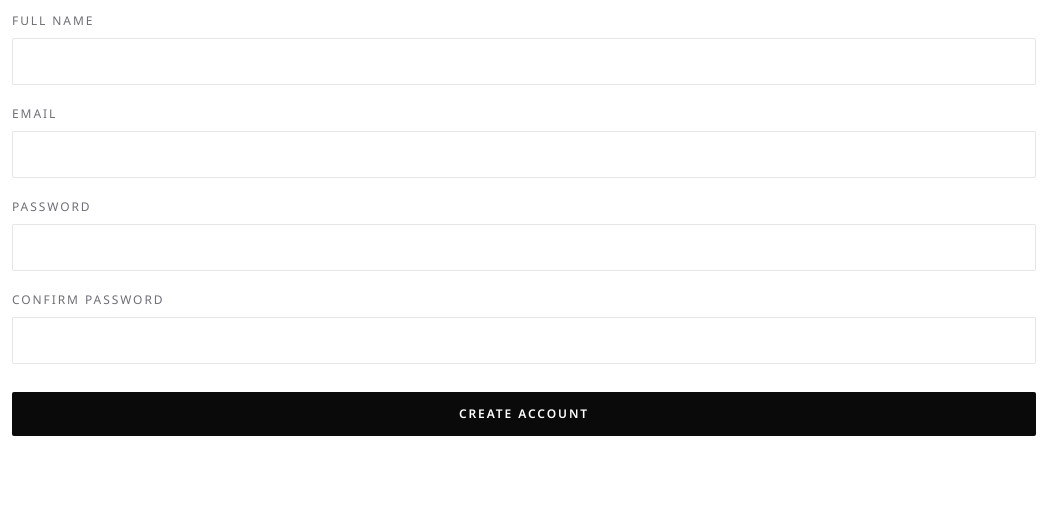
Test: SignupForm › shows the server error on failure
Type "A B" into the field labelled "Full name".
click(524, 62); type("A B")  # box top-left (12, 38), bottom-right (1036, 85)
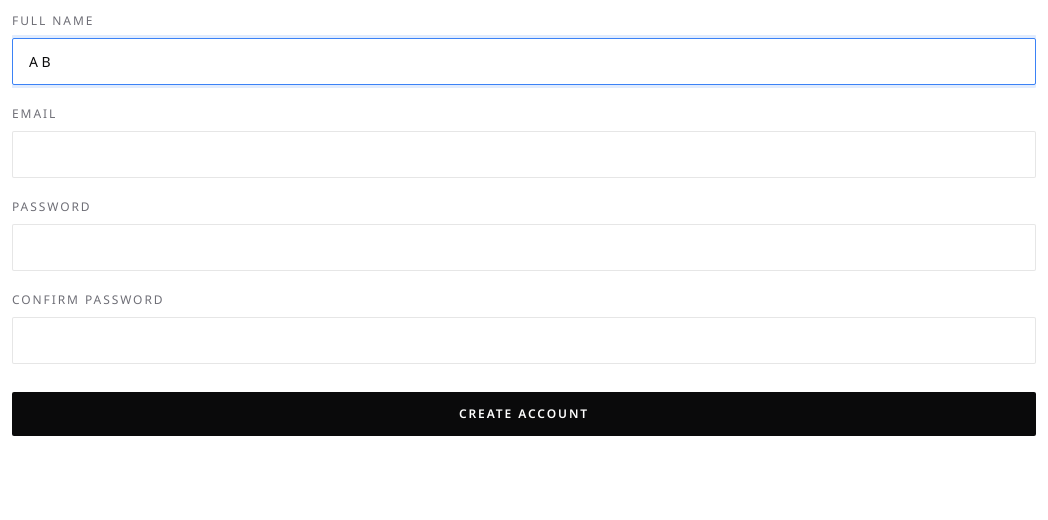
Type "a@b.com" into the field labelled "Email".
click(524, 154); type("a@b.com")  # box top-left (12, 131), bottom-right (1036, 178)
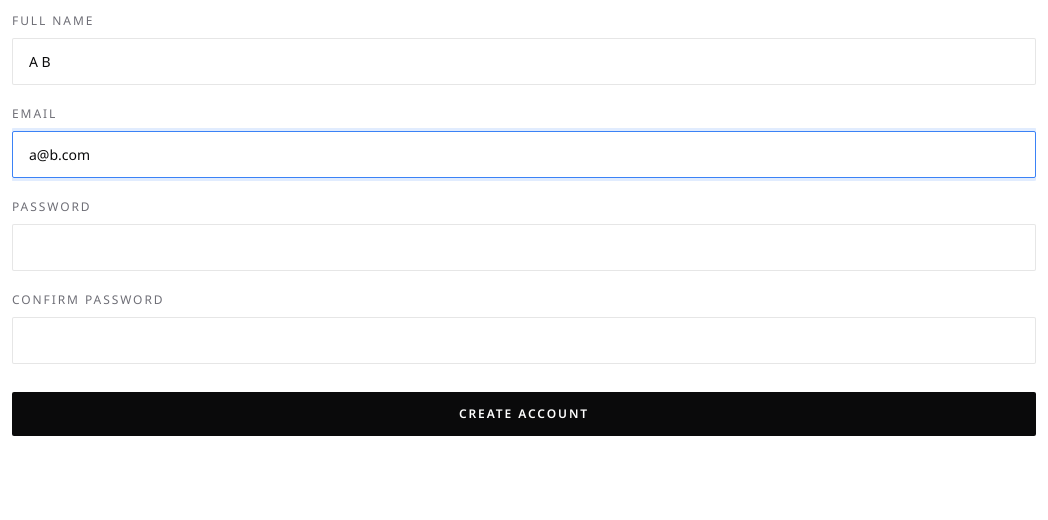
Type "str0ng-pass-phrase" into the password field labelled "Password".
click(524, 248); type("str0ng-pass-phrase")  # box top-left (12, 224), bottom-right (1036, 271)
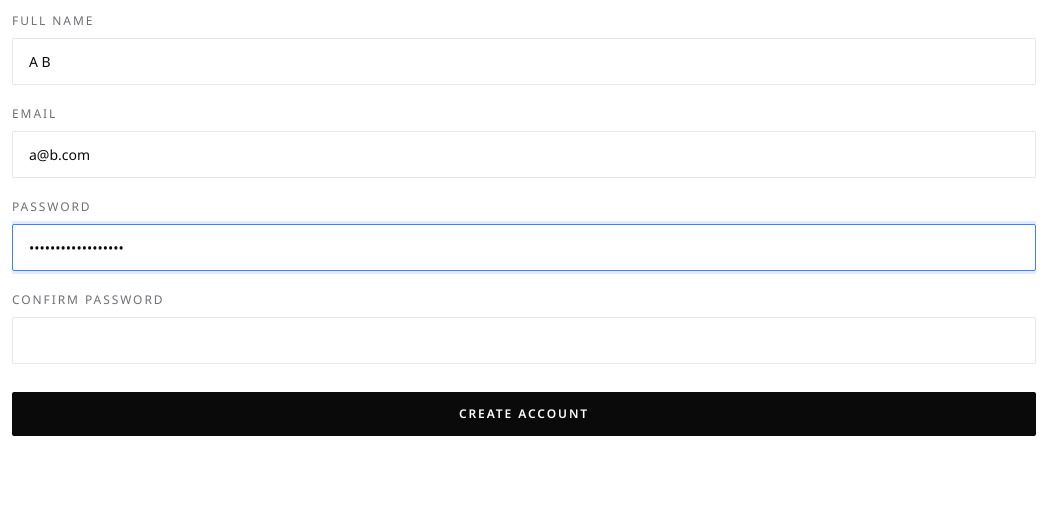
Type "str0ng-pass-phrase" into the password field labelled "Confirm password".
click(524, 340); type("str0ng-pass-phrase")  # box top-left (12, 317), bottom-right (1036, 364)
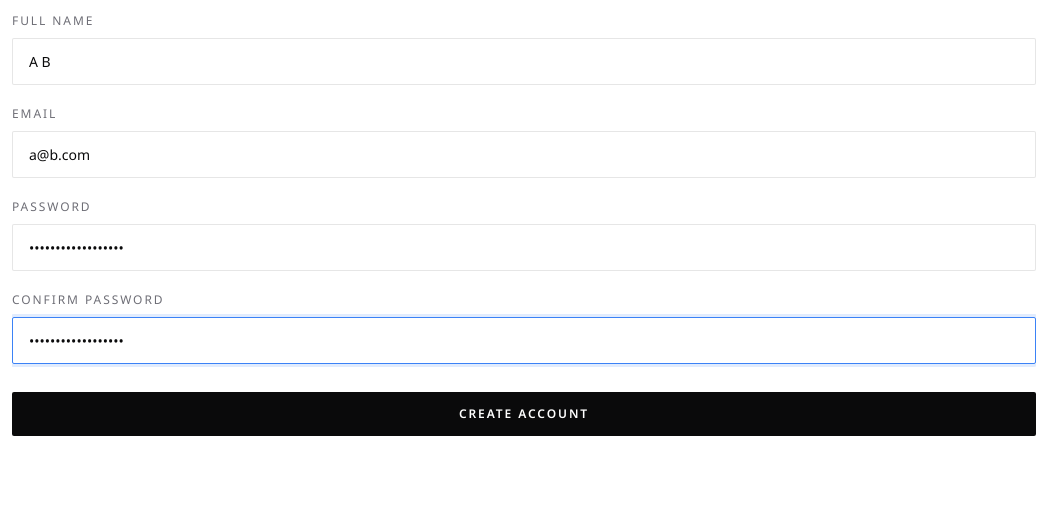
Click the button "Create account".
click(524, 414)  # box top-left (12, 392), bottom-right (1036, 436)
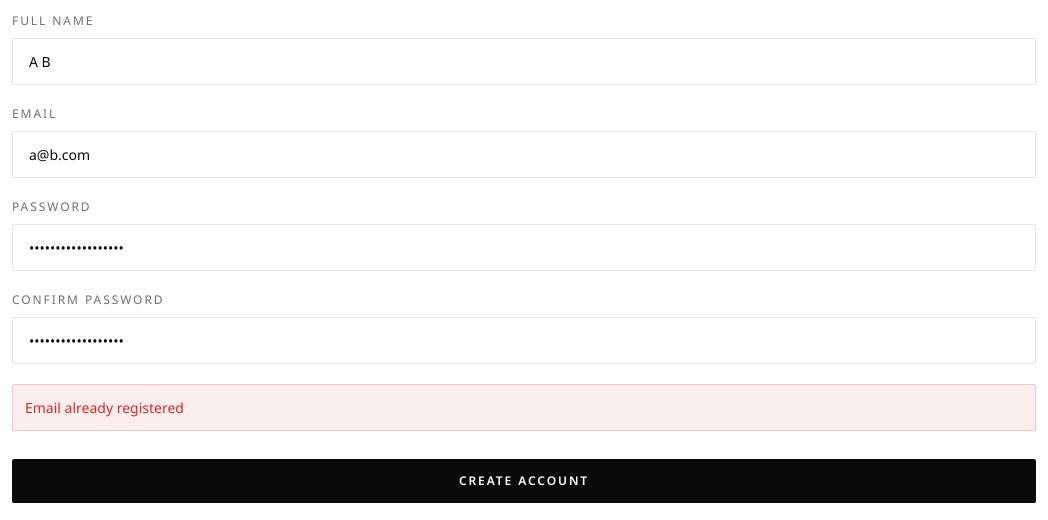
Result: the text "Email already registered" is shown at top-left (12, 384), bottom-right (1036, 431)
